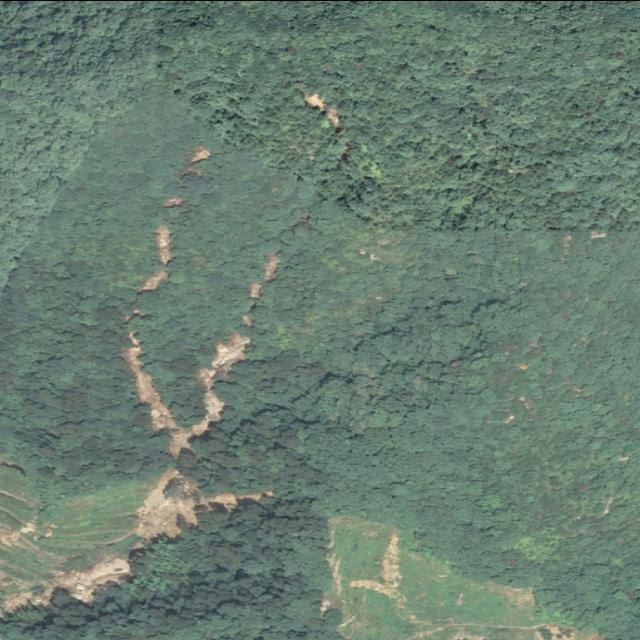landslide: (121, 332, 250, 457), (134, 470, 272, 541), (2, 558, 128, 611), (138, 225, 174, 291), (382, 557, 398, 597), (264, 252, 280, 280)
